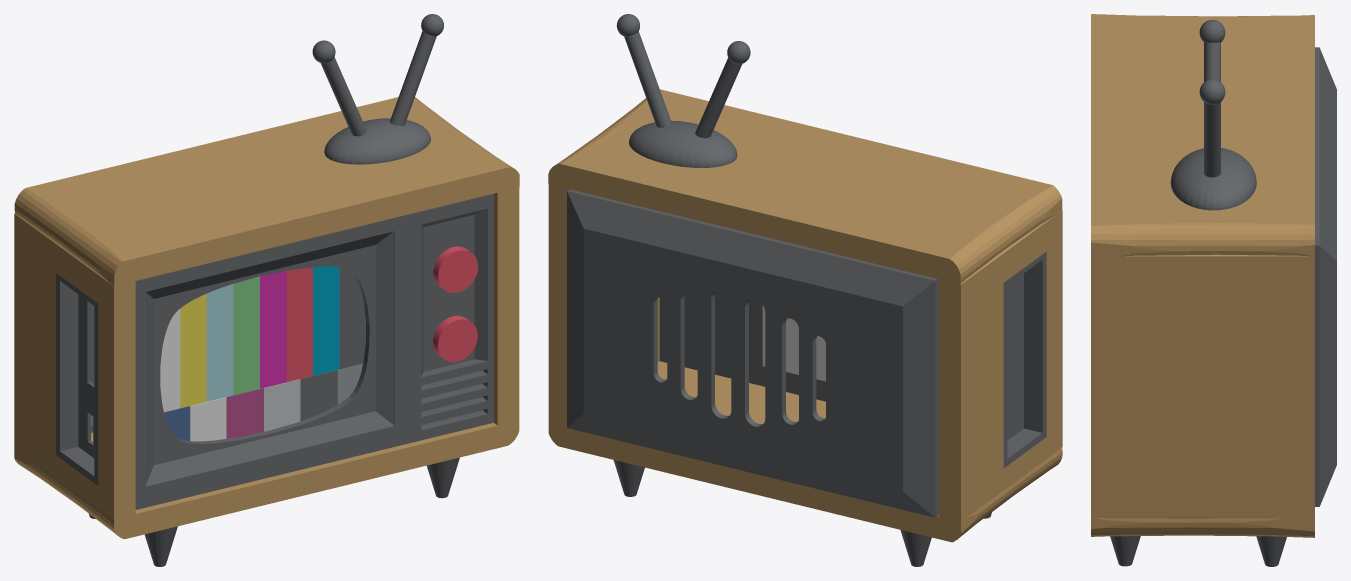
The model's file is asset.glb.
The picture shows the model from 3 angles, left to right: view 1: azimuth 30°, elevation 25°; view 2: azimuth 150°, elevation 25°; view 3: azimuth 270°, elevation 25°; orthographic projection. The views are drawn at different scales.
Visible parts, largest first — view 1: Mesh_Mesh_head_geo.001_lambert2SG.001; view 2: Mesh_Mesh_head_geo.001_lambert2SG.001; view 3: Mesh_Mesh_head_geo.001_lambert2SG.001.
Boxes of the visible parts, left/top/right/bottom form: Mesh_Mesh_head_geo.001_lambert2SG.001: left=14, top=14, right=519, bottom=566; Mesh_Mesh_head_geo.001_lambert2SG.001: left=548, top=14, right=1062, bottom=566; Mesh_Mesh_head_geo.001_lambert2SG.001: left=1091, top=14, right=1336, bottom=566.
Size of the model in its own units: 122 by 128 by 57.1.
